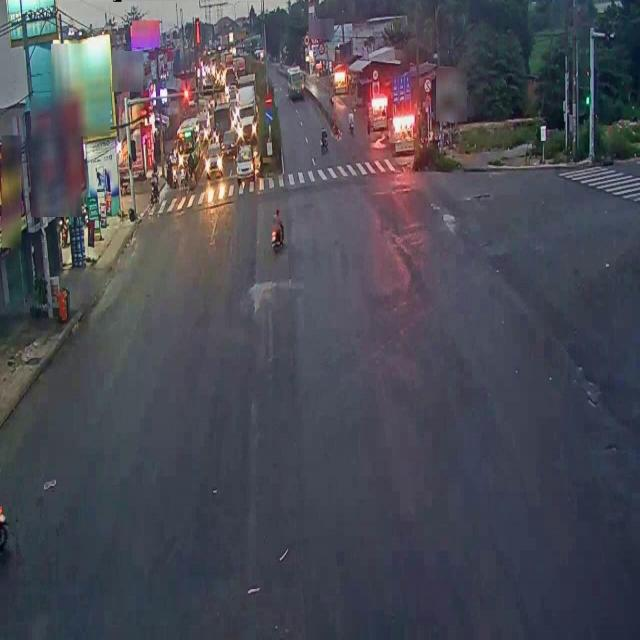motorcycle: (270, 205, 286, 253)
